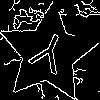Y: (23, 28, 71, 84)
